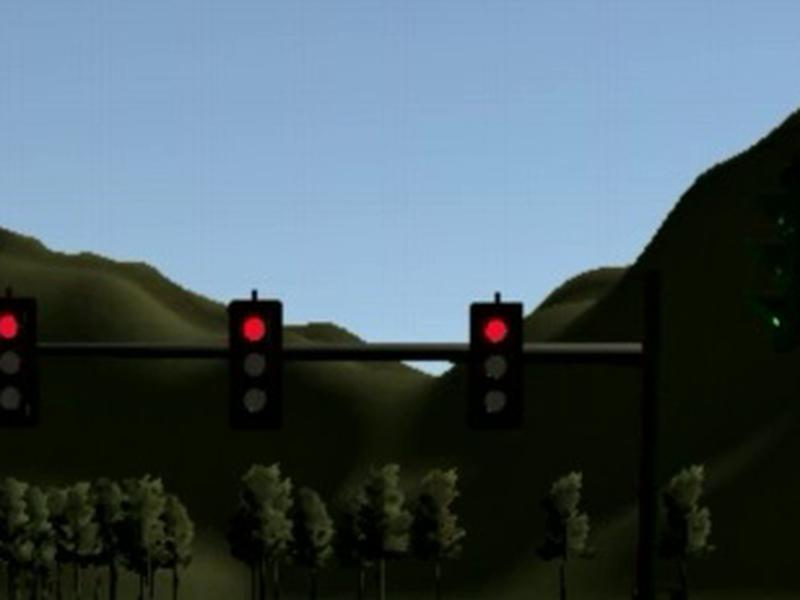Red: (467, 301, 522, 427), (228, 299, 282, 421), (1, 295, 35, 417)
